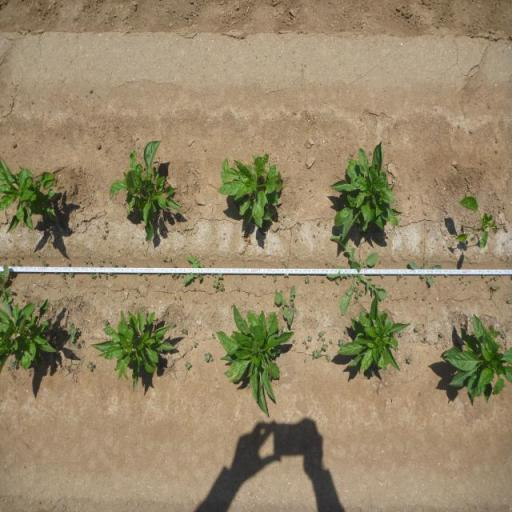plant: (216, 302, 295, 417), (108, 139, 182, 244), (90, 307, 175, 394), (328, 141, 403, 237), (442, 311, 512, 404), (336, 297, 408, 372), (216, 151, 284, 229), (0, 296, 60, 374), (0, 158, 60, 235), (454, 194, 500, 250)
weed: (326, 232, 390, 298), (408, 258, 442, 288), (274, 285, 298, 325), (182, 254, 208, 287), (0, 265, 13, 315), (68, 324, 80, 342), (212, 279, 226, 293), (354, 286, 366, 300), (486, 274, 500, 284), (8, 358, 18, 370), (312, 348, 322, 359), (316, 331, 326, 342), (204, 351, 213, 363), (86, 360, 94, 372), (104, 272, 116, 280), (104, 220, 110, 234), (489, 284, 499, 292), (184, 362, 192, 370), (278, 325, 286, 333), (15, 257, 22, 266), (193, 339, 199, 349), (170, 272, 178, 279), (180, 328, 188, 334), (307, 334, 313, 342), (406, 357, 412, 365), (103, 318, 109, 325), (217, 273, 224, 279), (304, 276, 310, 283), (321, 344, 328, 350), (338, 339, 344, 346), (328, 339, 334, 346), (414, 326, 420, 333), (60, 272, 65, 280), (326, 354, 331, 362), (74, 343, 80, 349), (210, 333, 216, 339), (111, 262, 117, 268), (120, 262, 126, 268), (161, 255, 167, 261), (42, 260, 47, 266), (95, 272, 100, 278), (90, 273, 95, 278), (101, 234, 106, 239), (211, 273, 216, 278), (284, 273, 289, 278), (292, 339, 297, 344), (172, 322, 176, 328), (68, 272, 74, 276), (143, 274, 147, 280), (136, 272, 142, 276), (172, 262, 176, 268), (236, 286, 240, 292), (273, 276, 277, 282), (305, 344, 309, 350), (344, 328, 348, 334), (439, 332, 443, 338), (66, 262, 71, 266), (302, 339, 306, 344), (81, 338, 84, 344), (88, 260, 92, 264), (100, 258, 104, 262), (316, 221, 320, 225), (169, 256, 172, 261), (84, 260, 86, 264)
